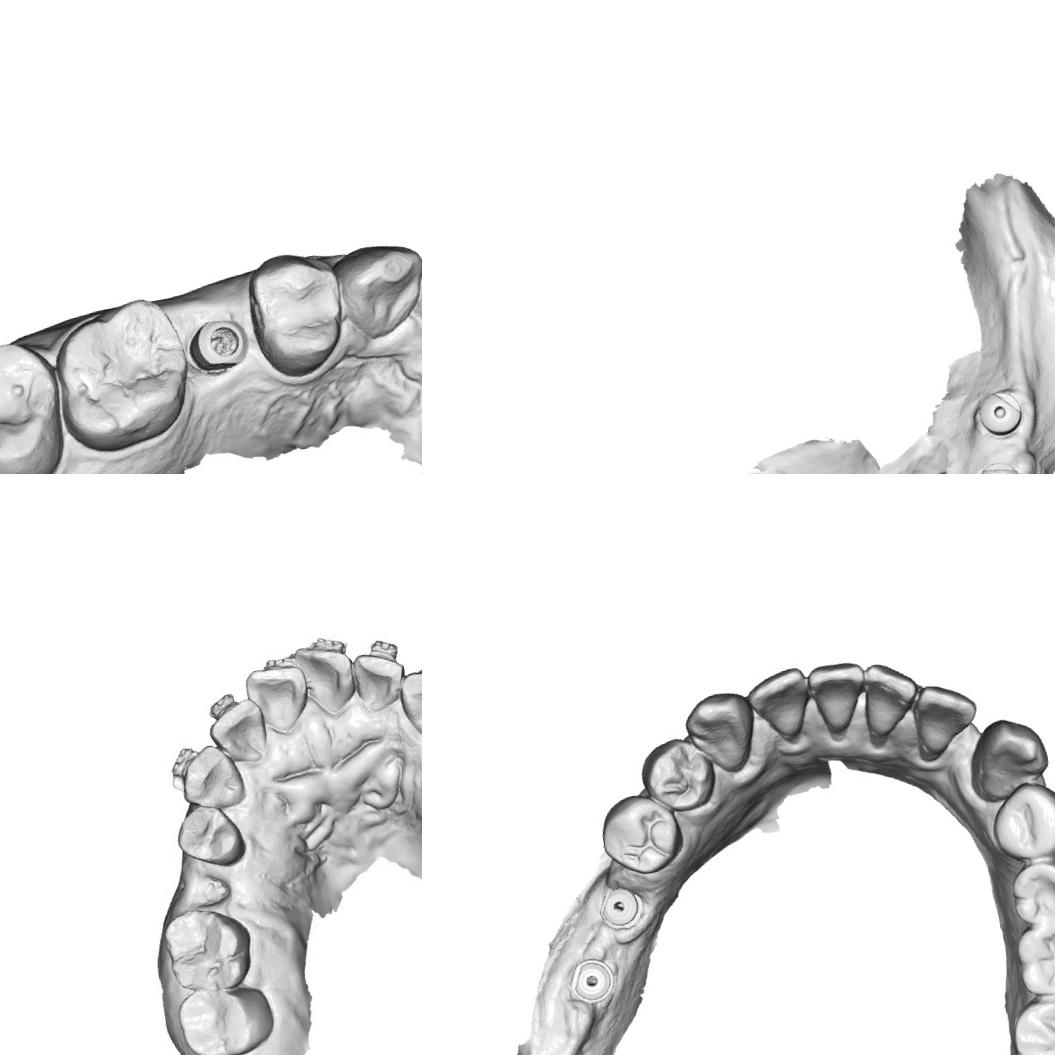canine: (331, 235, 422, 345), (962, 710, 1054, 802), (680, 684, 764, 780), (173, 738, 249, 812), (394, 660, 422, 735)
implant: (187, 308, 257, 381), (566, 954, 622, 1012), (975, 384, 1027, 438), (592, 880, 643, 934), (967, 456, 1025, 474)
incisor: (740, 664, 816, 746), (908, 676, 982, 760), (854, 656, 927, 739), (292, 638, 362, 719), (241, 659, 311, 737), (805, 657, 872, 738), (203, 697, 273, 766), (347, 646, 407, 712)
molar: (45, 290, 202, 460), (0, 333, 75, 474), (156, 898, 257, 1000), (168, 975, 279, 1055), (1011, 917, 1055, 1002), (1004, 984, 1055, 1055)
premolar: (234, 243, 354, 385), (596, 785, 687, 882), (634, 730, 719, 818), (983, 775, 1055, 867), (169, 796, 250, 875), (1006, 856, 1055, 930)
